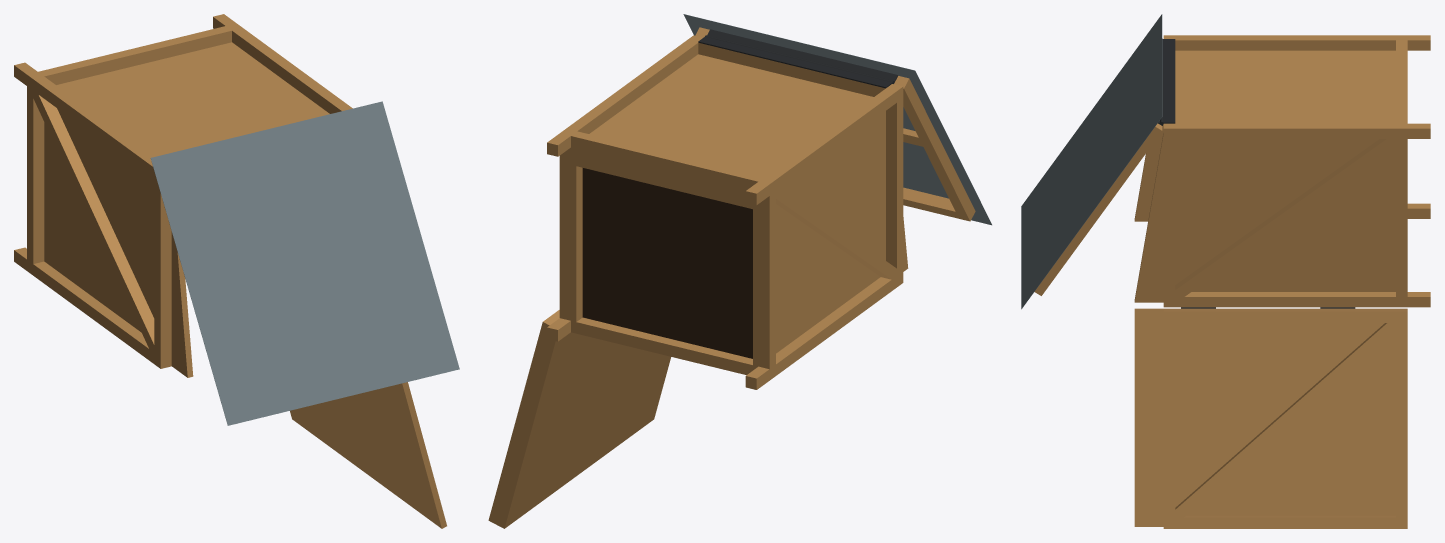
File: .dass-open.step.glb
3 views of the same model, side by side, from view 1: azimuth 30°, elevation 25°; view 2: azimuth 150°, elevation 25°; view 3: azimuth 270°, elevation 25° (orthographic). The views are drawn at different scales.
Visible parts, largest first — view 1: o1.29, o1.19, o1.17, o1.33, o1.27, o1.6, o1.1, o1.2, o1.7, o1.8, o1.4; view 2: o1.20, o1.19, o1.17, o1.33, o1.29, o1.2, o1.6, o1.5, o1.4, o1.1, o1.7, o1.8 (+10 smaller); view 3: o1.33, o1.18, o1.19, o1.29, o1.4, o1.3, o1.28, o1.2, o1.38, o1.35, o1.34, o1.37 (+7 smaller).
Boxes of the visible parts, x1,y1,x2,y2 form: o1.29: [150, 101, 459, 425]; o1.19: [56, 42, 329, 156]; o1.17: [44, 108, 193, 377]; o1.33: [290, 382, 446, 528]; o1.27: [33, 91, 154, 352]; o1.6: [38, 26, 231, 84]; o1.1: [14, 247, 171, 368]; o1.2: [14, 62, 156, 180]; o1.7: [27, 86, 44, 263]; o1.8: [154, 179, 171, 357]; o1.4: [213, 14, 352, 113]; o1.20: [582, 168, 752, 358]; o1.19: [571, 54, 873, 195]; o1.17: [753, 111, 908, 366]; o1.33: [499, 332, 670, 528]; o1.29: [683, 14, 991, 225]; o1.2: [745, 84, 903, 205]; o1.6: [571, 131, 764, 190]; o1.5: [571, 317, 757, 374]; o1.4: [547, 35, 702, 156]; o1.1: [745, 271, 903, 389]; o1.7: [758, 191, 775, 369]; o1.8: [886, 98, 903, 275]; o1.33: [1134, 308, 1407, 526]; o1.18: [1134, 133, 1395, 302]; o1.19: [1175, 50, 1395, 139]; o1.29: [1021, 14, 1162, 309]; o1.4: [1163, 123, 1430, 138]; o1.3: [1163, 292, 1430, 307]; o1.28: [1175, 139, 1395, 296]; o1.2: [1163, 35, 1430, 50]; o1.38: [1175, 323, 1395, 517]; o1.35: [1163, 309, 1407, 322]; o1.34: [1163, 515, 1407, 528]; o1.37: [1163, 309, 1175, 528].
Size of the model in its own units: 1.32 by 1.85 by 1.76.
